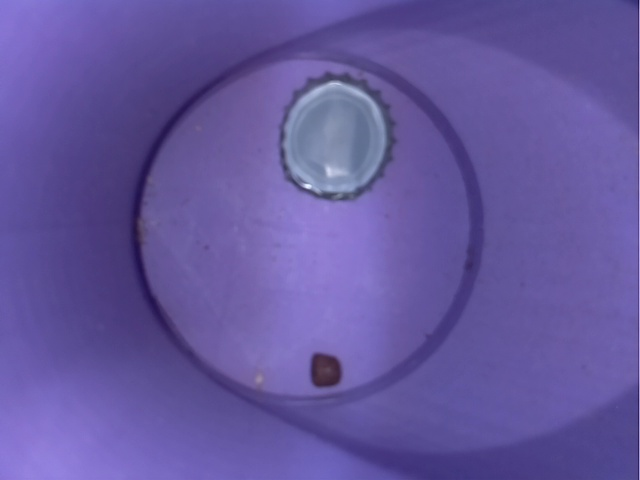capsule: (266, 63, 403, 210)
croquette: (294, 331, 356, 410)
